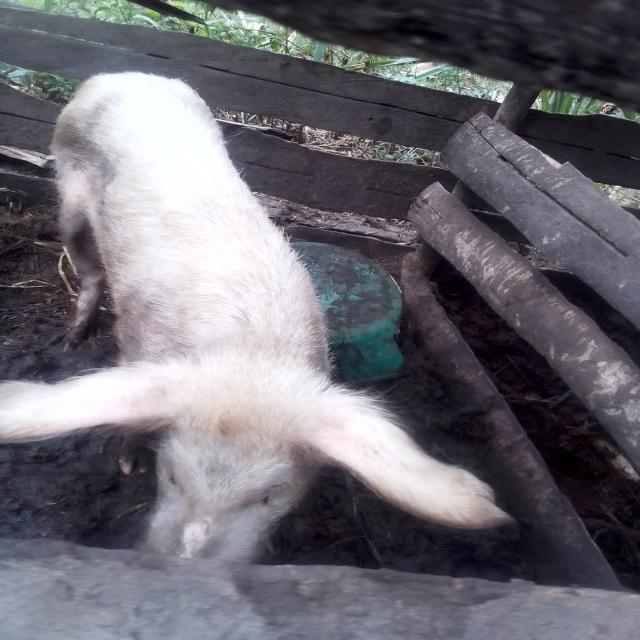pig: (0, 48, 556, 581)
